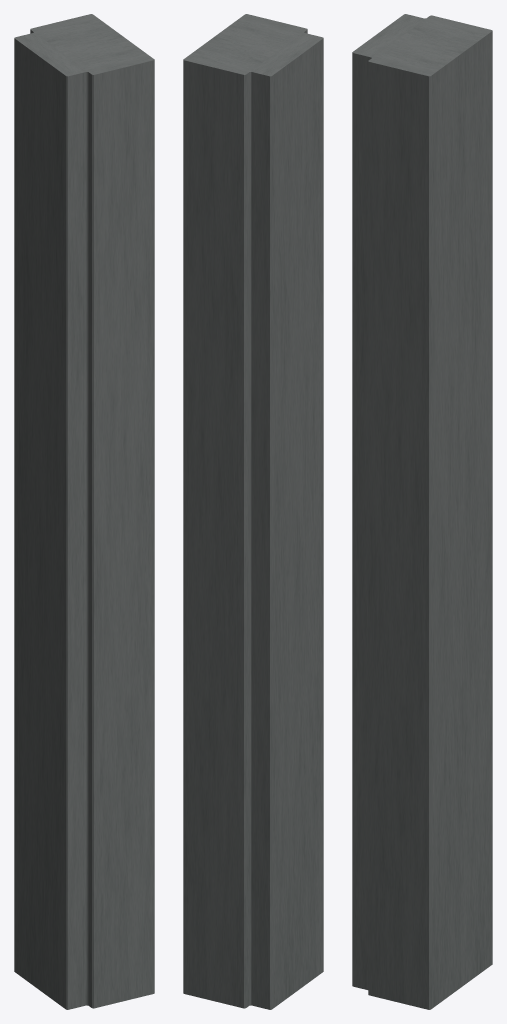
Rendered from ShutterPost.fbx.
3 views of the same model, side by side, from view 1: azimuth 30°, elevation 25°; view 2: azimuth 150°, elevation 25°; view 3: azimuth 330°, elevation 25° (orthographic).
Parts seen in each view (by area): view 1: ShutterPost; view 2: ShutterPost; view 3: ShutterPost.
Boxes of the visible parts, x1,y1,x2,y2 form: ShutterPost: [14, 14, 154, 1009]; ShutterPost: [183, 14, 323, 1009]; ShutterPost: [352, 14, 492, 1009].
Bounding box in the file's own units: 0.2249 × 2.41 × 0.2953.
